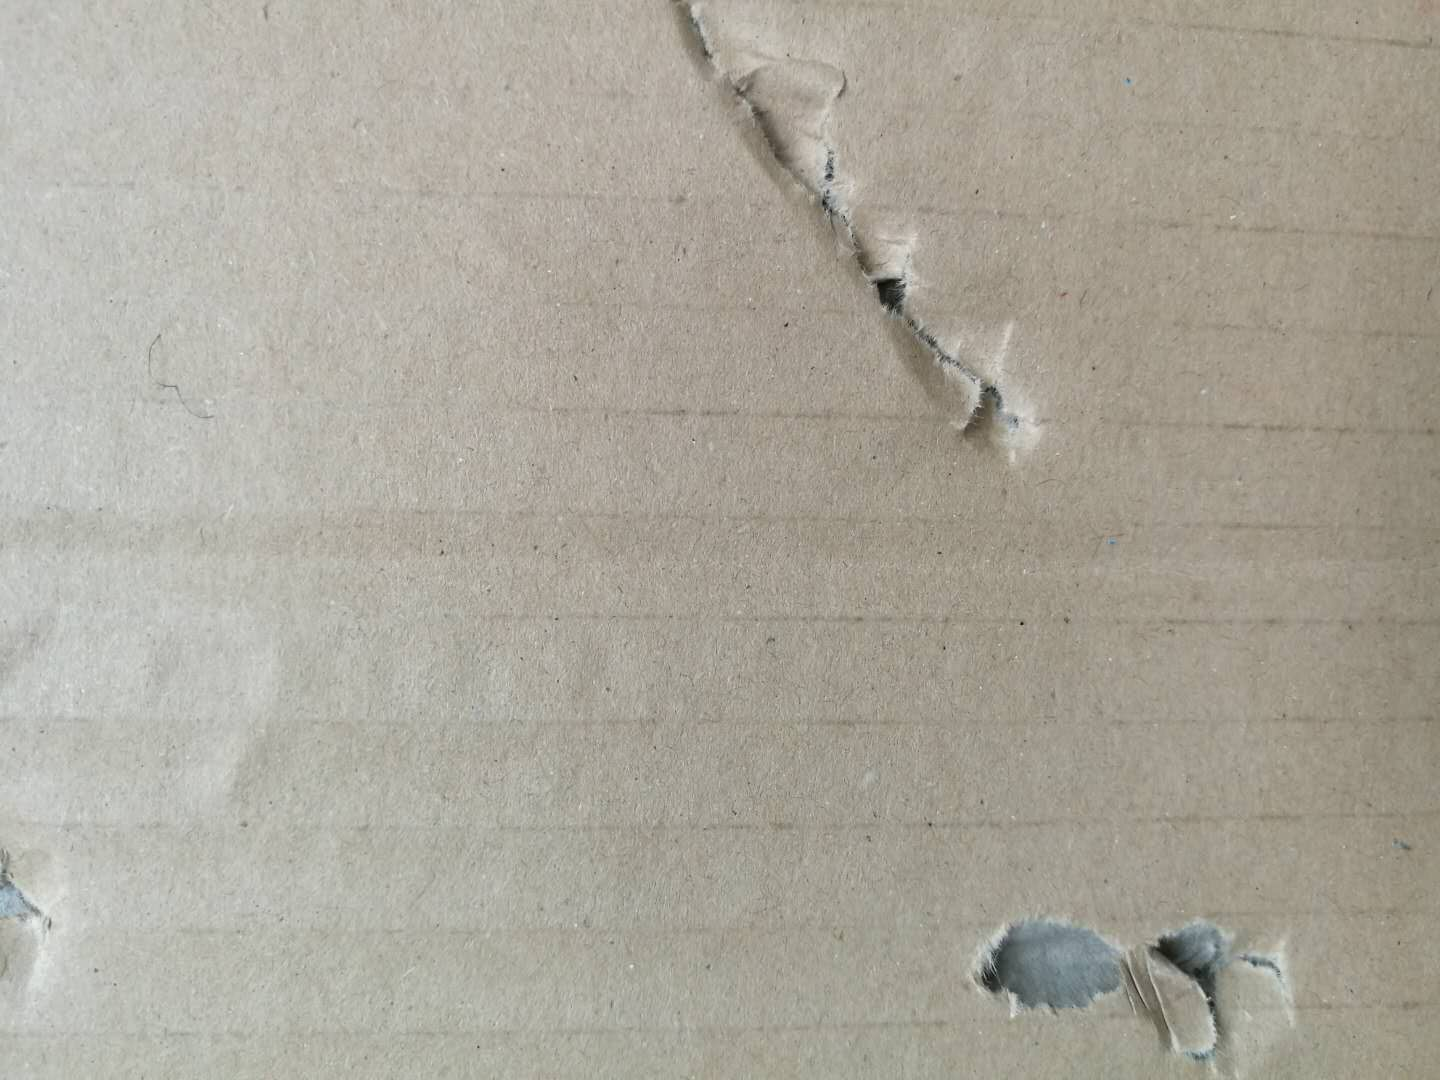defect: (629, 2, 1118, 533), (1, 469, 317, 1052), (943, 867, 1335, 1080)
